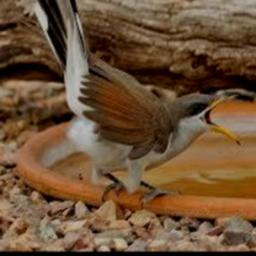Cuckoo: (25, 0, 241, 203)
